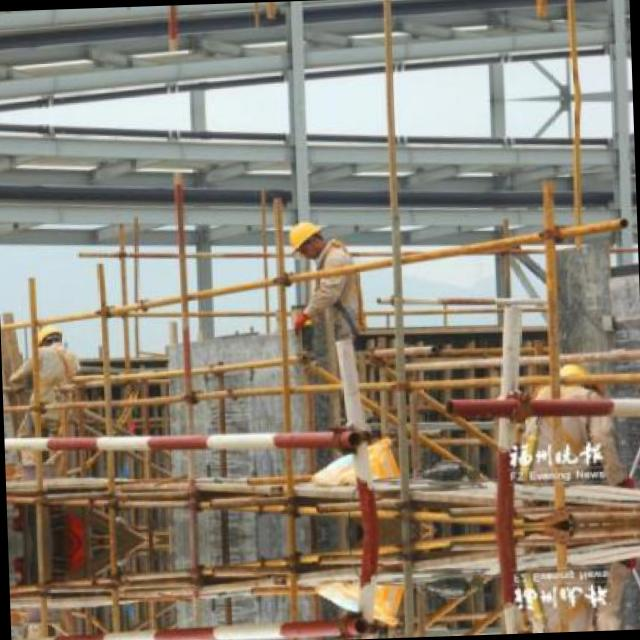helmet: (285, 218, 331, 260), (32, 318, 62, 350)
